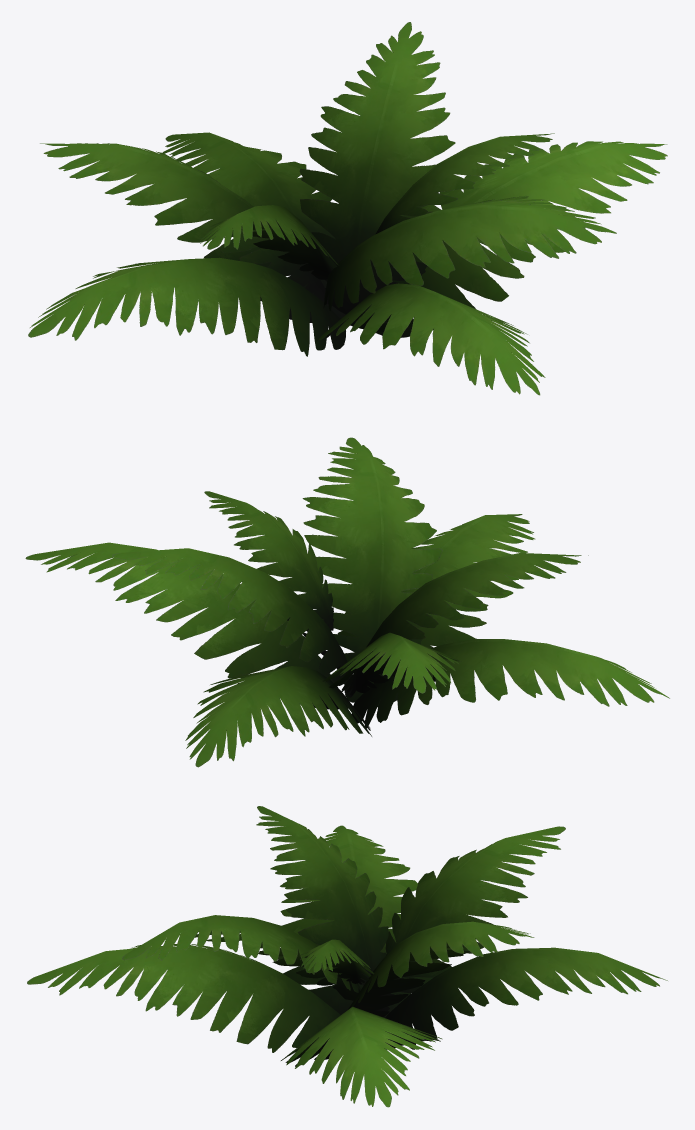
The model's file is fern.glb.
The picture shows the model from 3 angles, top to bottom: view 1: azimuth 30°, elevation 25°; view 2: azimuth 150°, elevation 25°; view 3: azimuth 270°, elevation 25°; orthographic projection. The views are drawn at different scales.
Parts seen in each view (by area): view 1: Fern_1; view 2: Fern_1; view 3: Fern_1.
Boxes of the visible parts, left/top/right/bottom form: Fern_1: left=28, top=22, right=667, bottom=395; Fern_1: left=25, top=437, right=669, bottom=767; Fern_1: left=27, top=806, right=667, bottom=1107.
Bounding box in the file's own units: 2.83 × 0.8402 × 2.65.
Materials: 1 (1 with a texture image).
